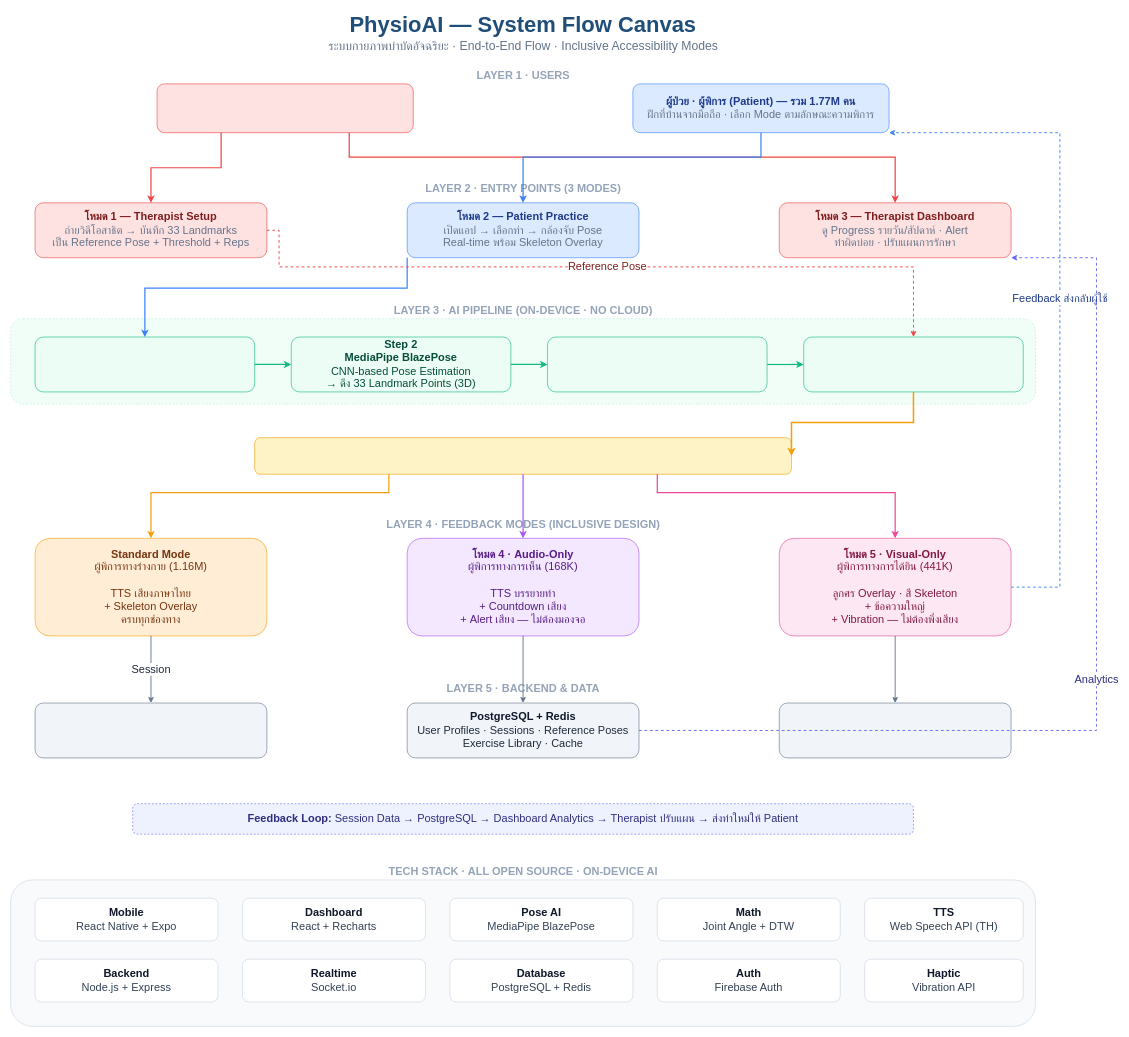
Image size: 1129x1037. Some labels were removed from this diagram. The centre of each missing label's shape, as x and y in pixels:
"Feedback Engine — แยกผลลัพธ์ตามความพิการของผู้ใช้ → เลือก Output Channel" goes at (522,455).
"Firebase Auth User Authentication Role-based Access (Therapist / Patient)" goes at (895,730).
"Node.js + Express REST API + Socket.io Real-time Patient ↔ Therapist" goes at (150,730).
"Step 1 Camera Frame จับภาพ Real-time จากมือถือ" goes at (144,364).
"Step 3 Joint Angle Calculation Inverse Trigonometry (atan2) + Cosine Similarity" goes at (657,364).
"Step 4 Compare vs Reference Threshold 15° · DTW สำหรับ Movement Sequence" goes at (913,364).
"นักกายภาพบำบัด (Therapist) Setup ท่า · บันทึก Reference Pose · ติดตาม Progress" goes at (284,108).
